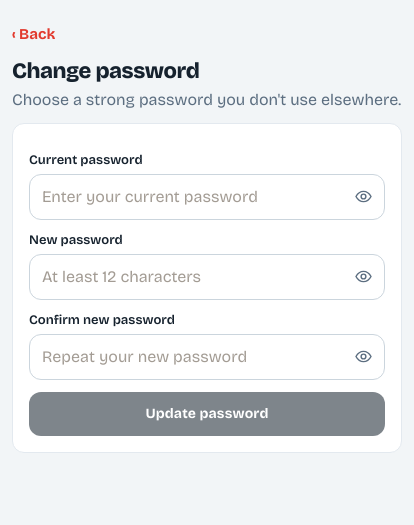
Scenario: ChangePasswordScreen › surfaces a friendly error when the current password is wrong
The width and height of the screenshot is (414, 525).
Type "WrongPass!12345" into the password field labelled "Current password" at (207, 196), box 29,174 -> 385,220
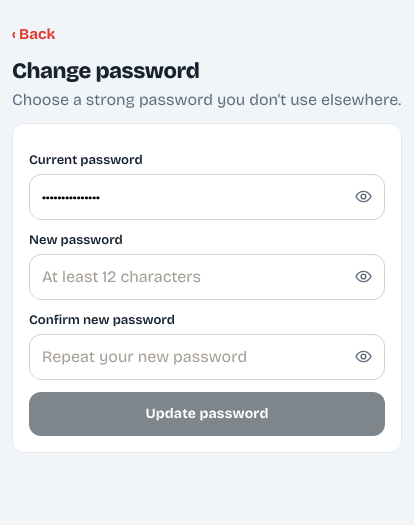
Type "BrandNew$ecret77" into the password field labelled "New password" at (207, 276), box 29,254 -> 385,300
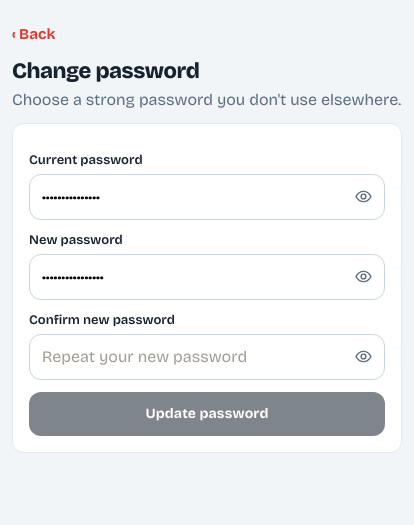
Type "BrandNew$ecret77" into the password field labelled "Confirm new password" at (207, 356), box 29,334 -> 385,380
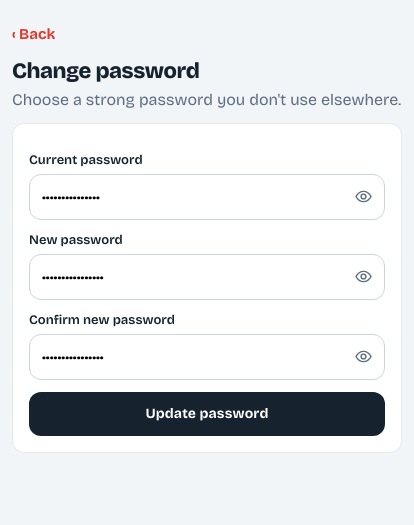
Click the button "Update password" at (207, 414), box 29,392 -> 385,436
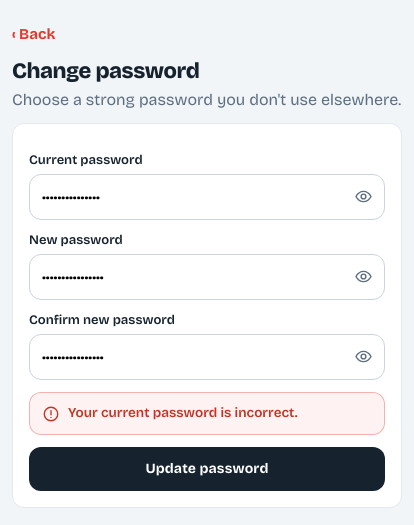
Expected: the text "Your current password is incorrect." is shown, 68,404 -> 298,420
